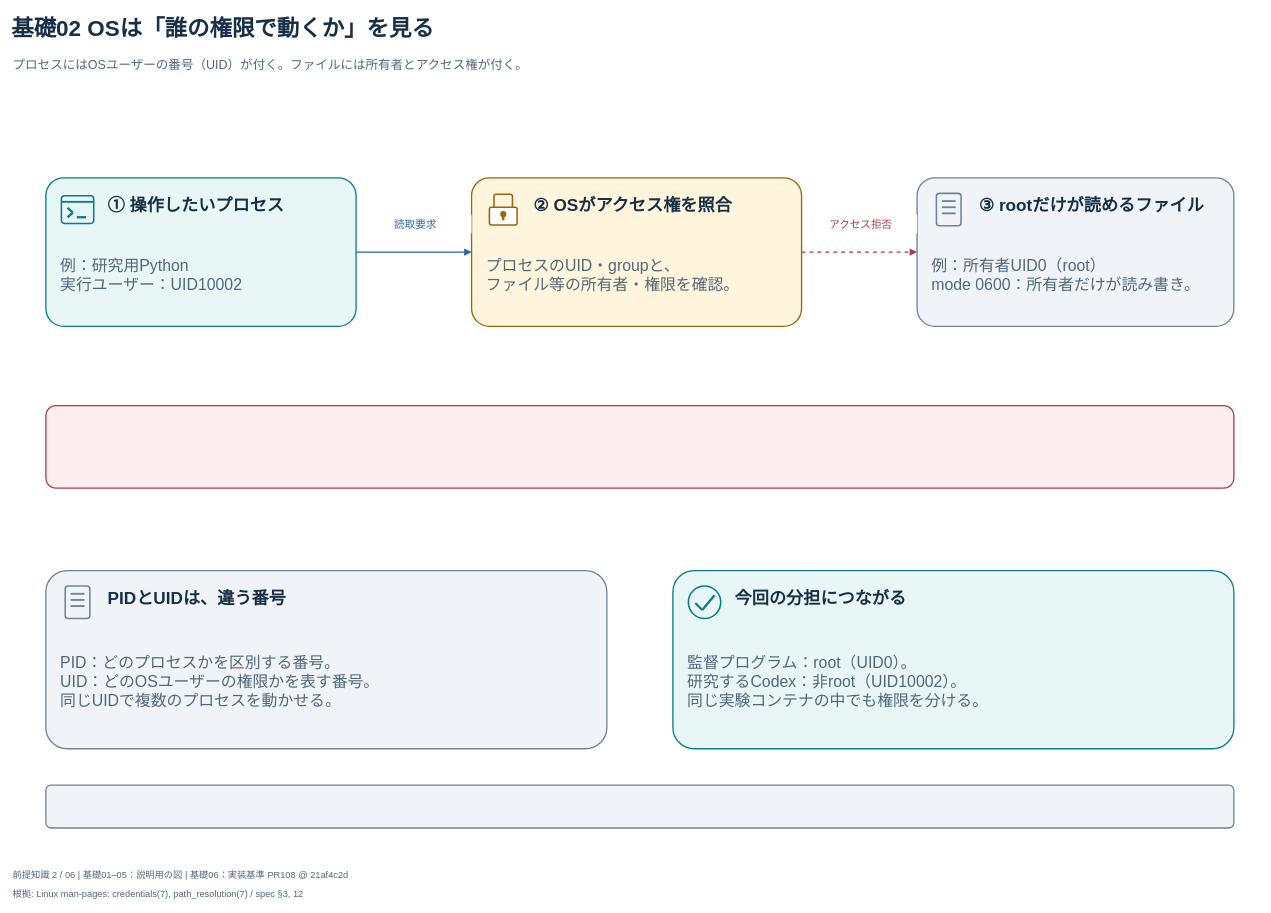
The diagram is 1271 pixels wide and 913 high, and some of its shapes have lost their labels. Here are the shapes that lost their labels. From the top down, the centre of each, then its label:
At (639,446): "この例のUID10002プロセスには、root専用ファイルを読む権限がない。 プログラムが「読んでよい」と判断しても、OSのアクセス権はそれだけでは変わらない。".
At (639,806): "ファイル読取の例を単純化して示した。実際には親ディレクトリの権限、追加group、capability等も関係する。".
